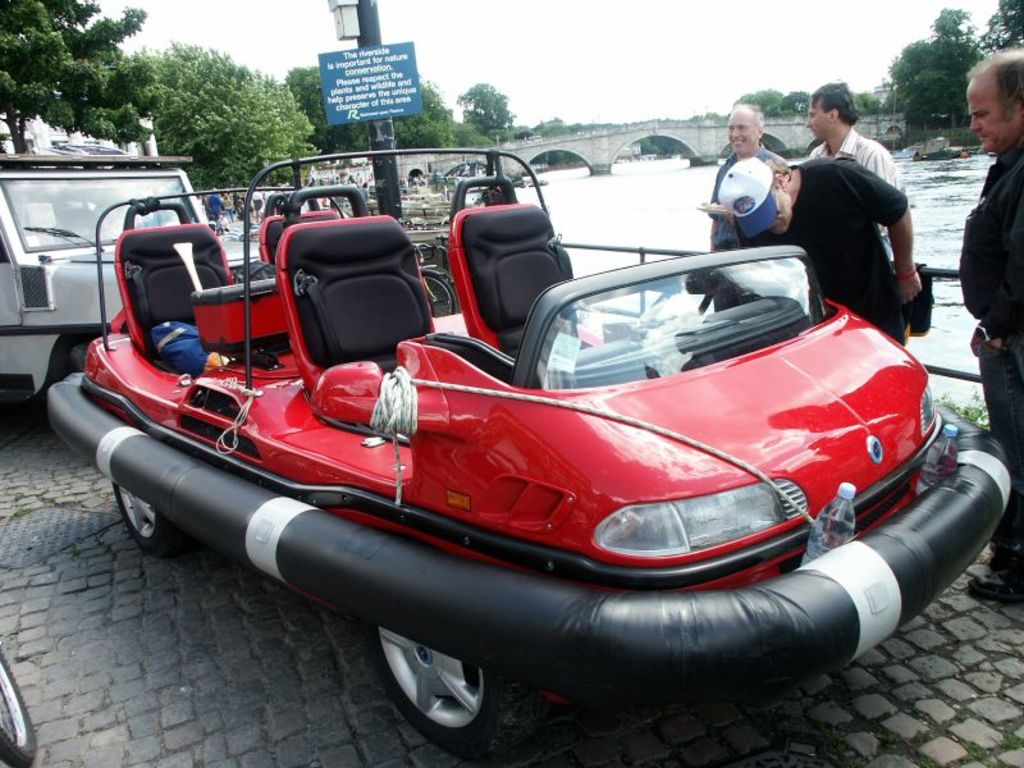Person: (205, 47, 1023, 600)
